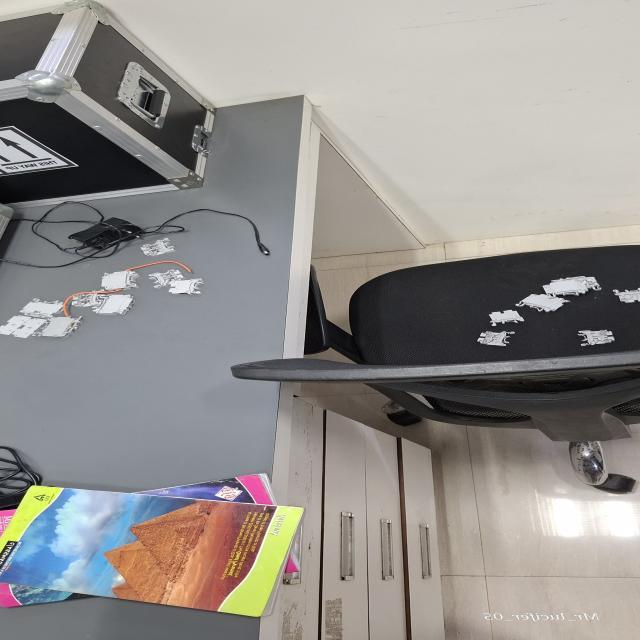Inverted: (487, 309, 527, 327)
Pass: (120, 236, 184, 262), (474, 330, 516, 347)
Reject: (578, 330, 622, 348), (611, 286, 640, 304)
